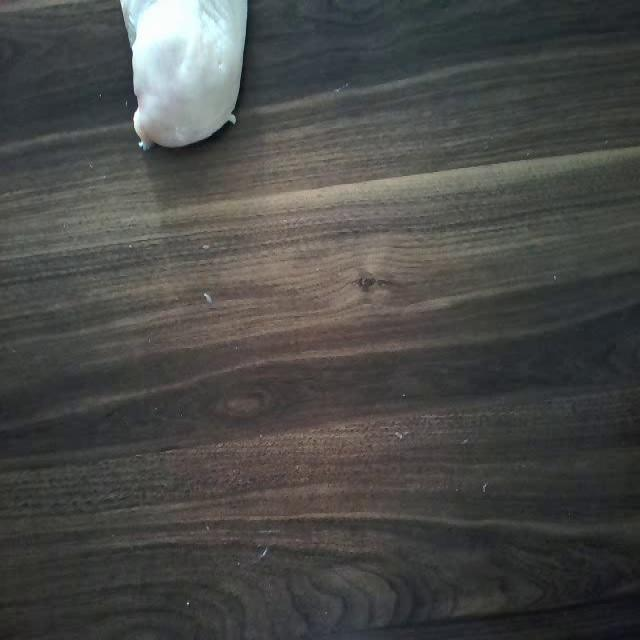breast: (107, 0, 253, 155)
